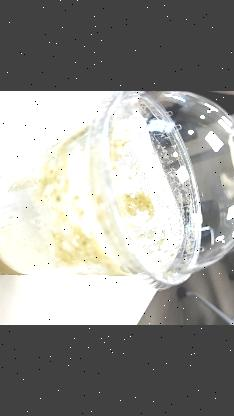Others: (0, 95, 234, 291), (87, 91, 234, 295)
